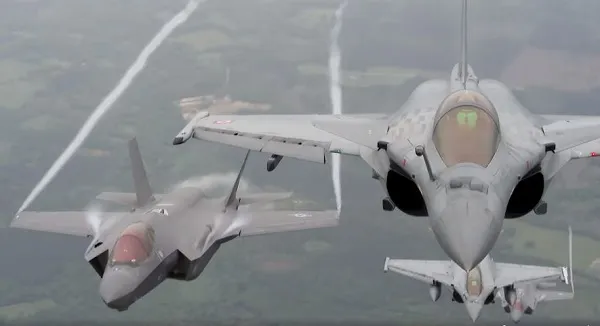F35: (11, 132, 336, 312), (479, 263, 581, 323)
Rafale: (178, 2, 599, 279), (383, 238, 573, 323)
